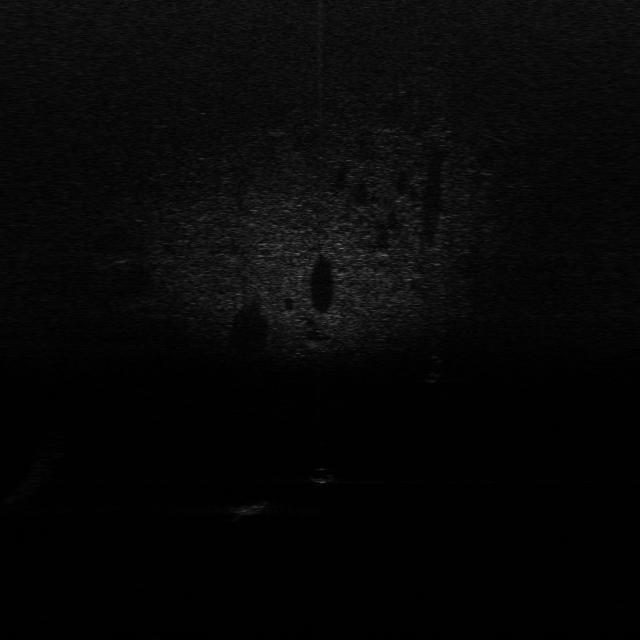ball: (308, 464, 337, 484)
square cage: (227, 494, 274, 518)
tyre: (423, 354, 449, 384)
